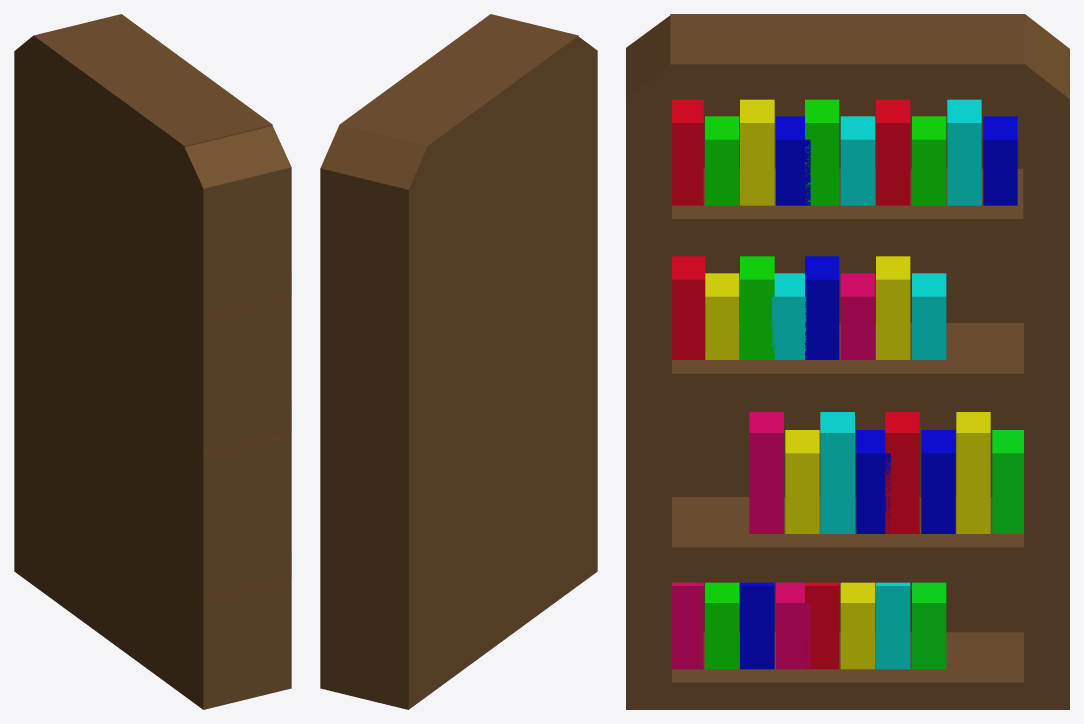
Rendered from BookShelf.fbx.
The picture shows the model from 3 angles, left to right: view 1: azimuth 30°, elevation 25°; view 2: azimuth 150°, elevation 25°; view 3: azimuth 270°, elevation 25°; orthographic projection. The views are drawn at different scales.
Parts seen in each view (by area): view 1: Cube.034; view 2: Cube.034; view 3: Cube.034.
Part boxes in pixels (x1,y1,x2,y2): Cube.034: (14,14,291,709); Cube.034: (320,14,597,709); Cube.034: (626,14,1069,709).
Size of the model in its own units: 27.53 by 164 by 102.
